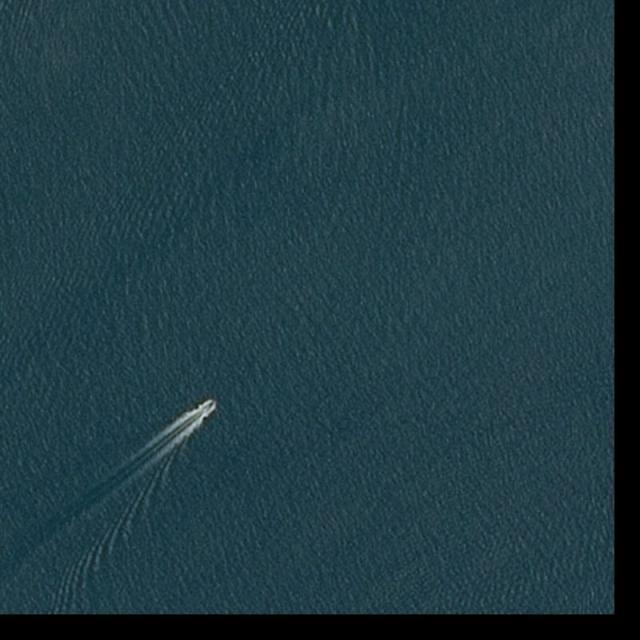ship: (207, 399, 217, 410)
